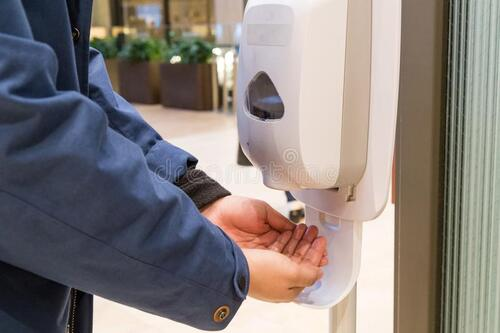sanitizer: (237, 1, 392, 222)
